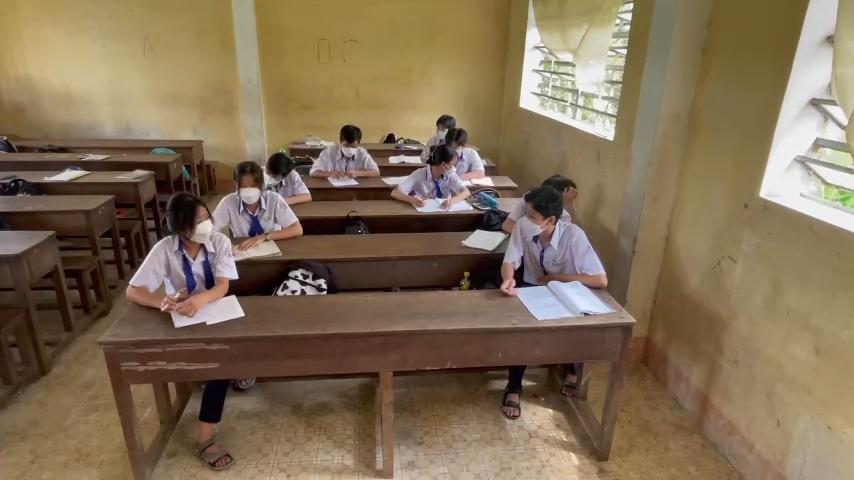Look Around: (157, 186, 221, 252), (505, 183, 569, 248), (410, 138, 466, 184)
